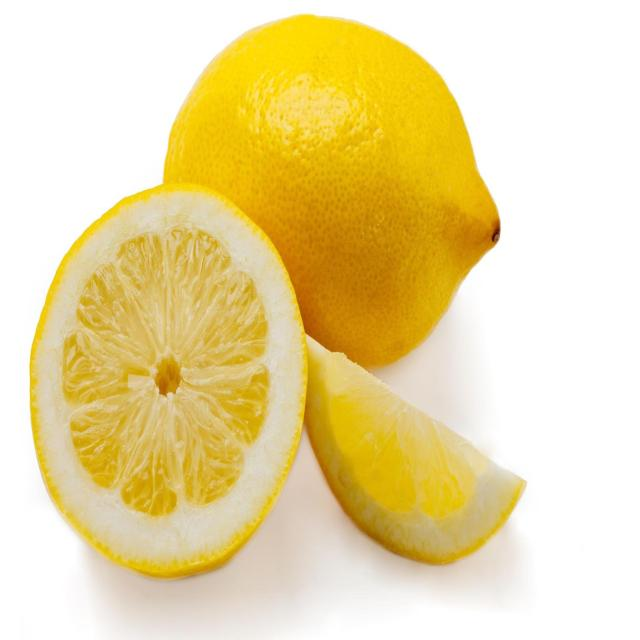lemon: (155, 10, 504, 373), (25, 177, 312, 586)
